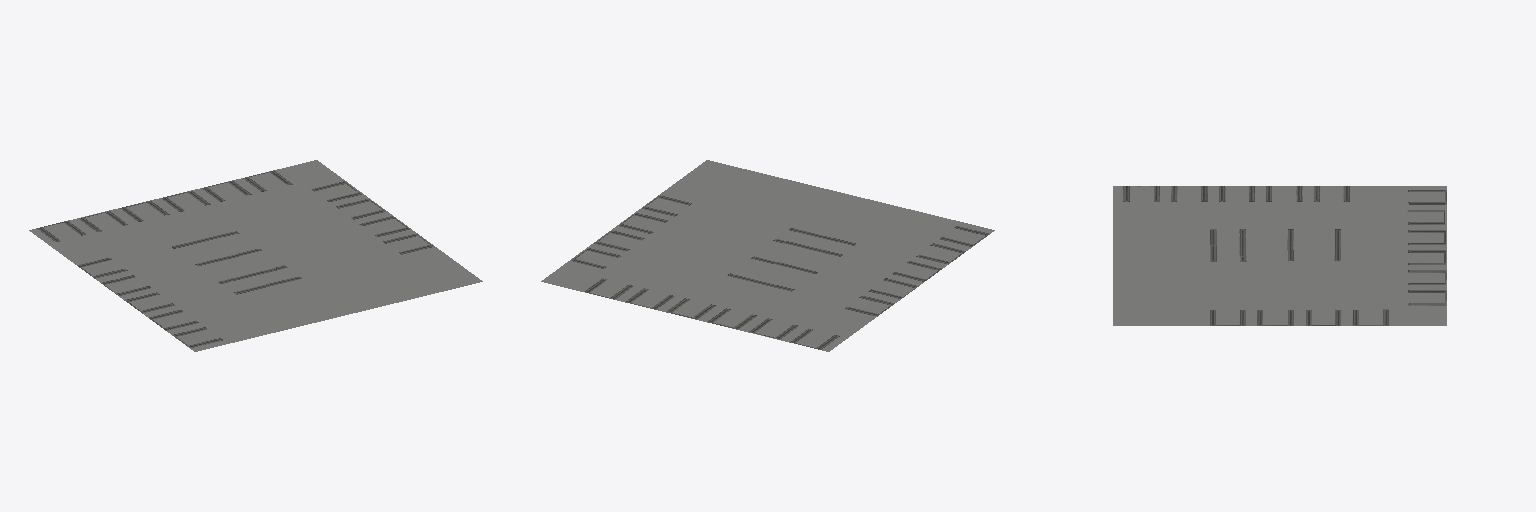
The picture shows the model from 3 angles: view 1: azimuth 30°, elevation 25°; view 2: azimuth 150°, elevation 25°; view 3: azimuth 270°, elevation 25°; orthographic projection.
Parts seen in each view (by area): view 1: Parking_Lot_Plane.004; view 2: Parking_Lot_Plane.004; view 3: Parking_Lot_Plane.004.
Part boxes in pixels (x1,y1,x2,y2): Parking_Lot_Plane.004: (29,160,482,351); Parking_Lot_Plane.004: (541,160,994,351); Parking_Lot_Plane.004: (1113,186,1446,325).
Size of the model in its own units: 6.67 by 0 by 6.67.
1 materials, 1 textured.